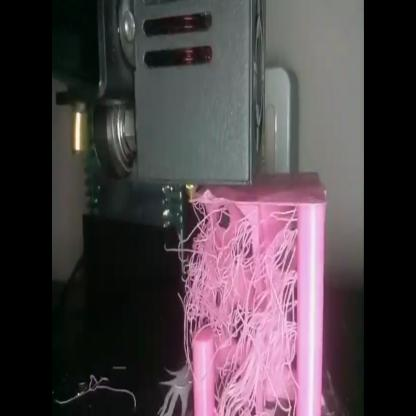fail: (171, 208, 299, 416)
